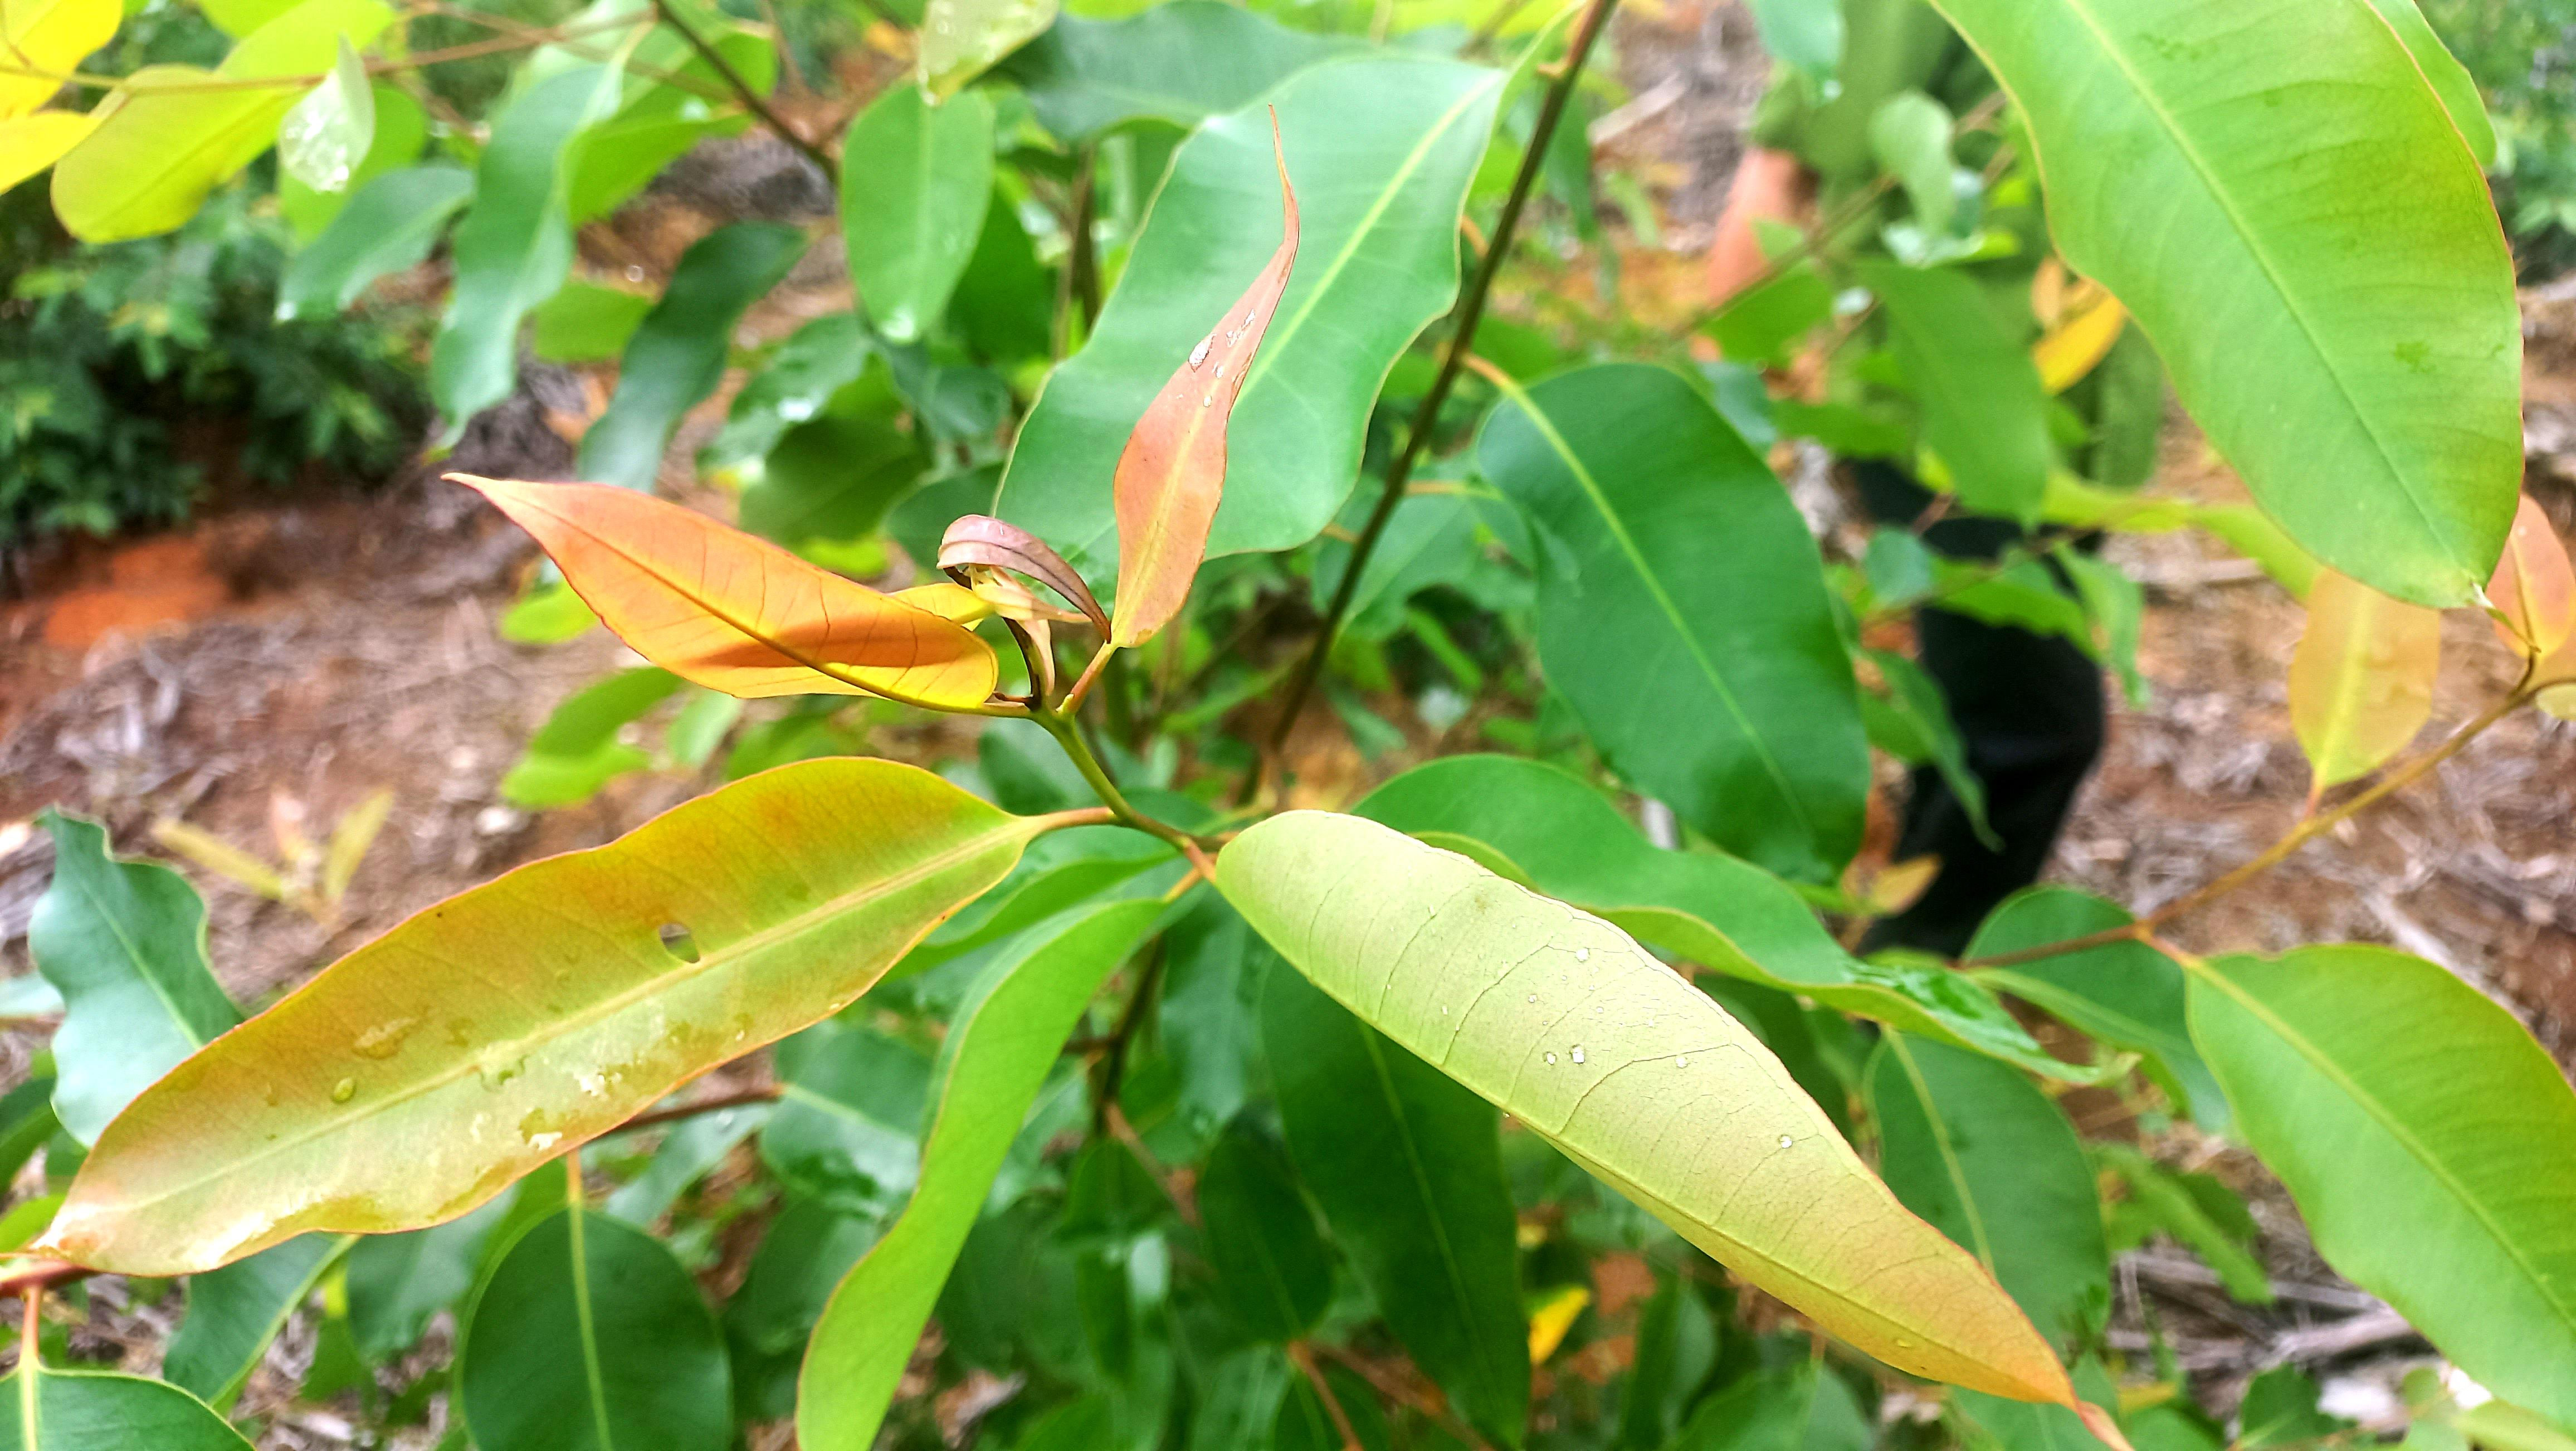Helopeltis-Withered Sprout: (25, 747, 1035, 1295), (1116, 110, 1295, 648), (931, 490, 1106, 665)
